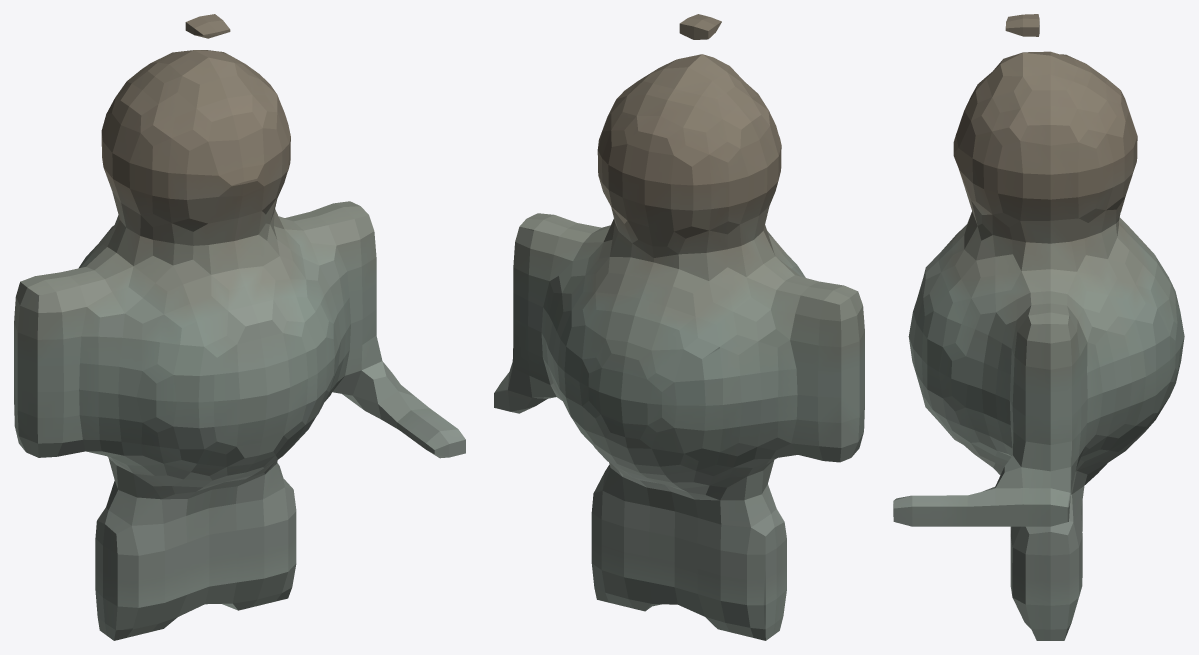
Rendered from forestDokkaebi.glb.
3 views of the same model, side by side, from view 1: azimuth 30°, elevation 25°; view 2: azimuth 150°, elevation 25°; view 3: azimuth 270°, elevation 25° (orthographic). The views are drawn at different scales.
Parts seen in each view (by area): view 1: geometry_0; view 2: geometry_0; view 3: geometry_0.
Boxes of the visible parts, bbox=[...] form: geometry_0: bbox=[14, 14, 465, 640]; geometry_0: bbox=[494, 14, 864, 640]; geometry_0: bbox=[893, 14, 1184, 640].
Bounding box in the file's own units: 0.6186 × 0.9654 × 0.4383.
Materials: 1 (1 with a texture image).
